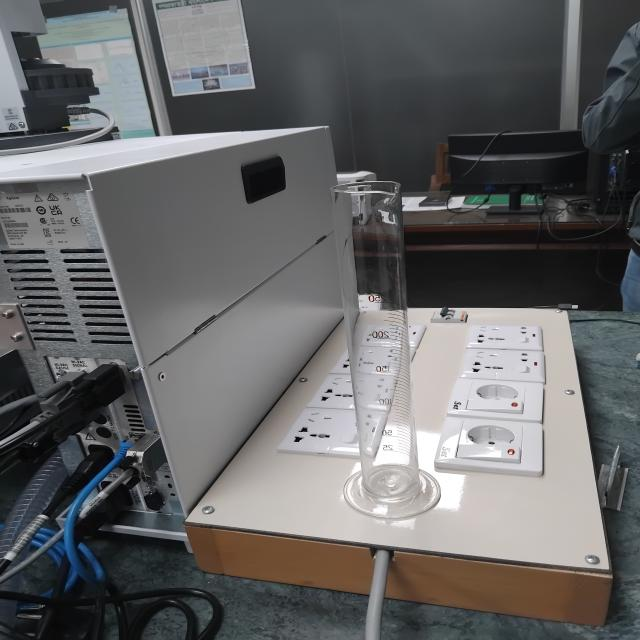Measuring_Cylinder: (307, 155, 475, 534)
